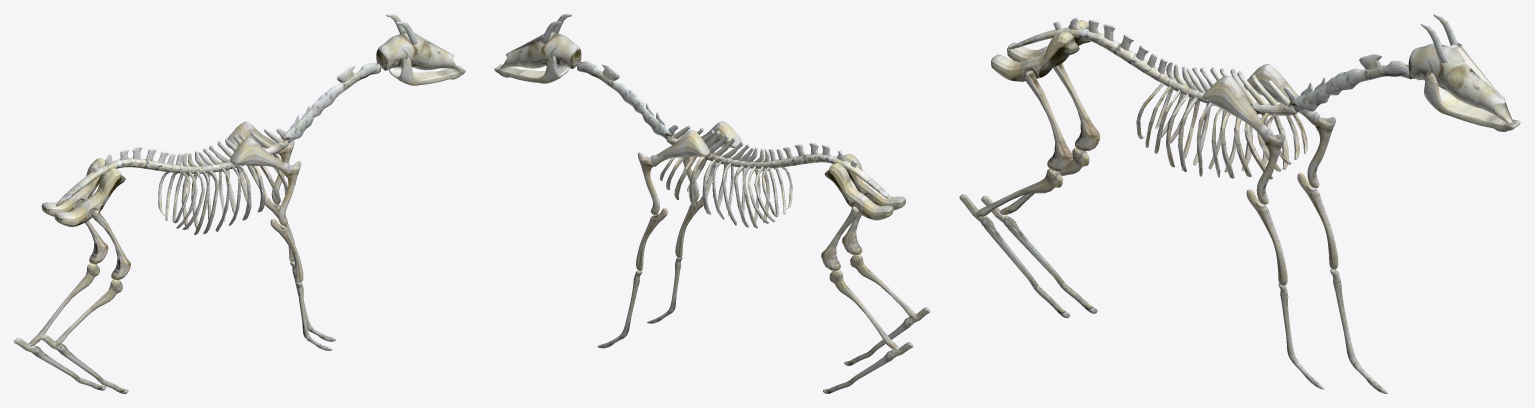
The model's file is BarkingDeer2.obj.
The picture shows the model from 3 angles, left to right: view 1: azimuth 30°, elevation 25°; view 2: azimuth 150°, elevation 25°; view 3: azimuth 330°, elevation 25°; orthographic projection. The views are drawn at different scales.
Visible parts, largest first — view 1: back1.001_Cube.010_use1, back1.001_Cube.010_use1.006, back1.001_Cube.010_use1.007, back1.001_Cube.010_use1.010; view 2: back1.001_Cube.010_use1, back1.001_Cube.010_use1.006, back1.001_Cube.010_use1.007, back1.001_Cube.010_use1.010; view 3: back1.001_Cube.010_use1, back1.001_Cube.010_use1.006, back1.001_Cube.010_use1.007, back1.001_Cube.010_use1.010.
Boxes of the visible parts, x1,y1,x2,y2 form: back1.001_Cube.010_use1: [14, 14, 465, 390]; back1.001_Cube.010_use1.006: [40, 209, 130, 393]; back1.001_Cube.010_use1.007: [270, 161, 332, 350]; back1.001_Cube.010_use1.010: [230, 137, 290, 174]; back1.001_Cube.010_use1: [494, 21, 913, 393]; back1.001_Cube.010_use1.006: [842, 213, 930, 365]; back1.001_Cube.010_use1.007: [647, 157, 707, 323]; back1.001_Cube.010_use1.010: [701, 121, 741, 147]; back1.001_Cube.010_use1: [981, 14, 1520, 393]; back1.001_Cube.010_use1.006: [959, 70, 1073, 317]; back1.001_Cube.010_use1.007: [1246, 133, 1324, 389]; back1.001_Cube.010_use1.010: [1202, 75, 1272, 141].
Bounding box in the file's own units: 2.41 × 1.68 × 0.2682.
Materials: 7 (7 with a texture image).
